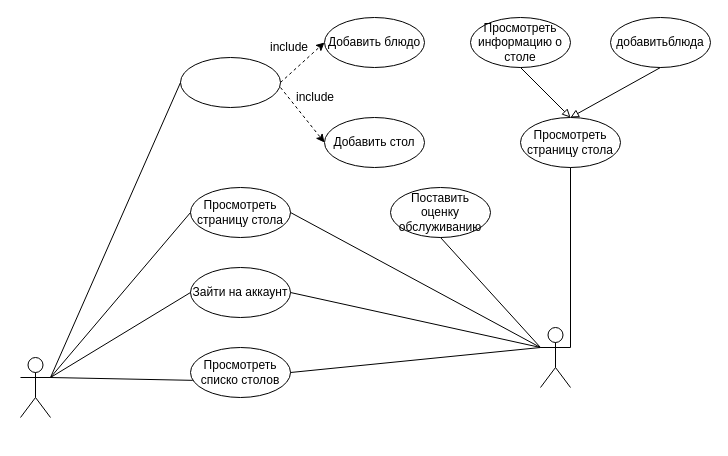
This 728x456 diagram has some shape labels left out. Here are the shapes that lost their labels. From the top down, the centre of each, then its label:
(x=230, y=82): Добавить файл
(x=555, y=357): User
(x=35, y=387): Админ
